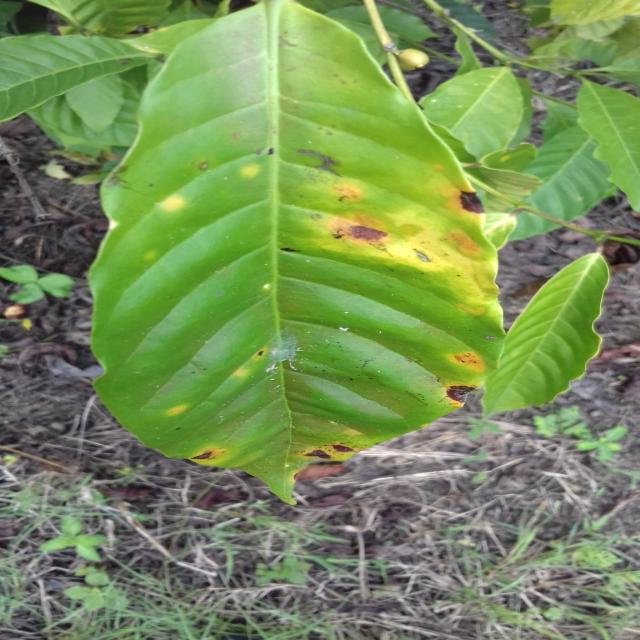Enfermedad-Roya: (87, 0, 513, 504)
